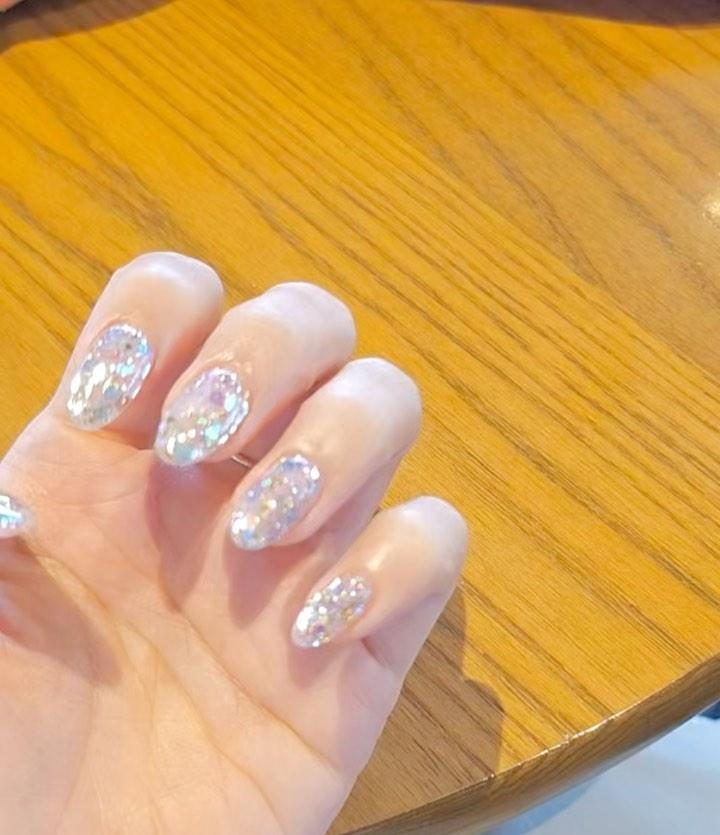nail: (152, 279, 357, 468), (227, 355, 422, 551), (64, 249, 224, 433), (289, 494, 468, 650), (153, 363, 250, 467), (65, 317, 153, 431), (228, 451, 321, 551)
